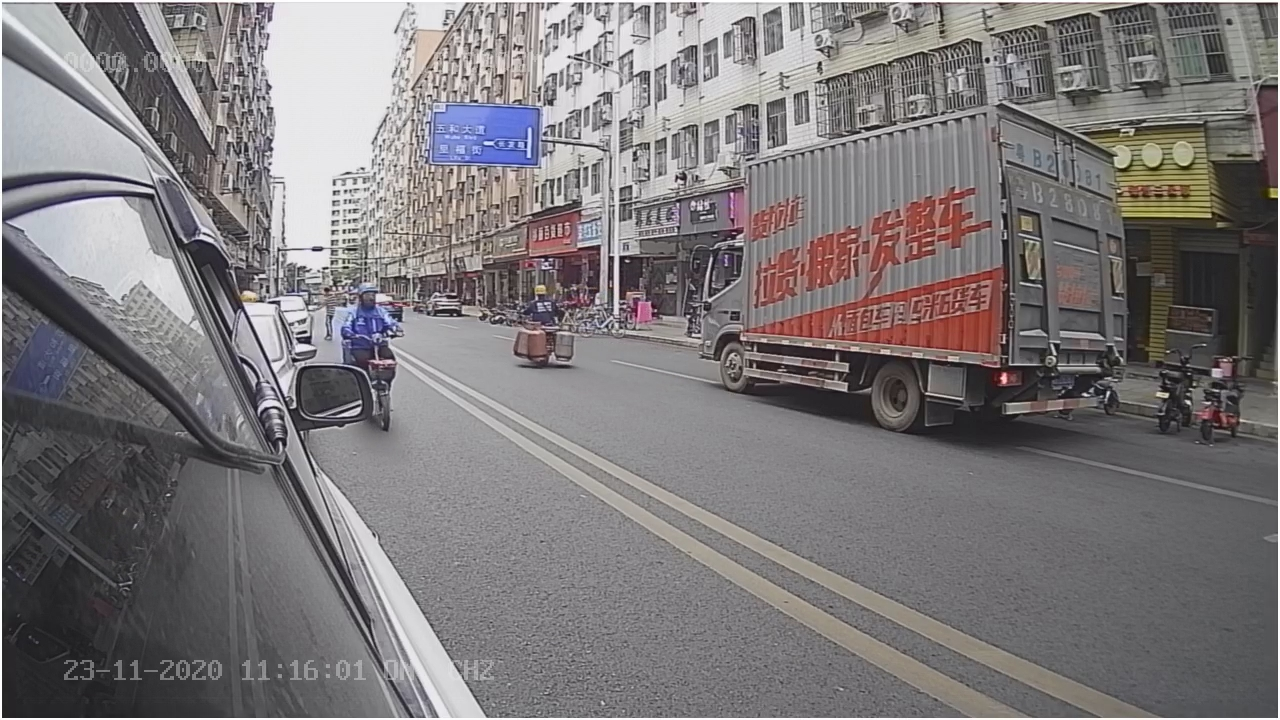person: (338, 280, 402, 347)
